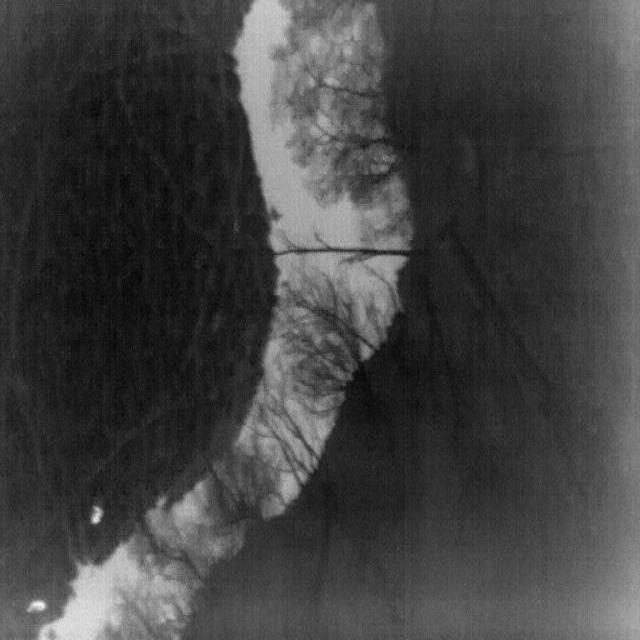deer: (89, 505, 105, 525), (26, 599, 48, 613)
